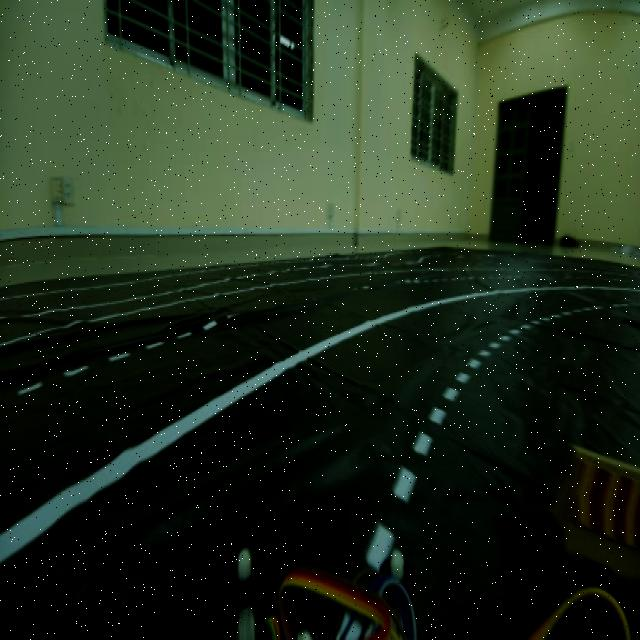roadblock: (552, 439, 640, 575)
